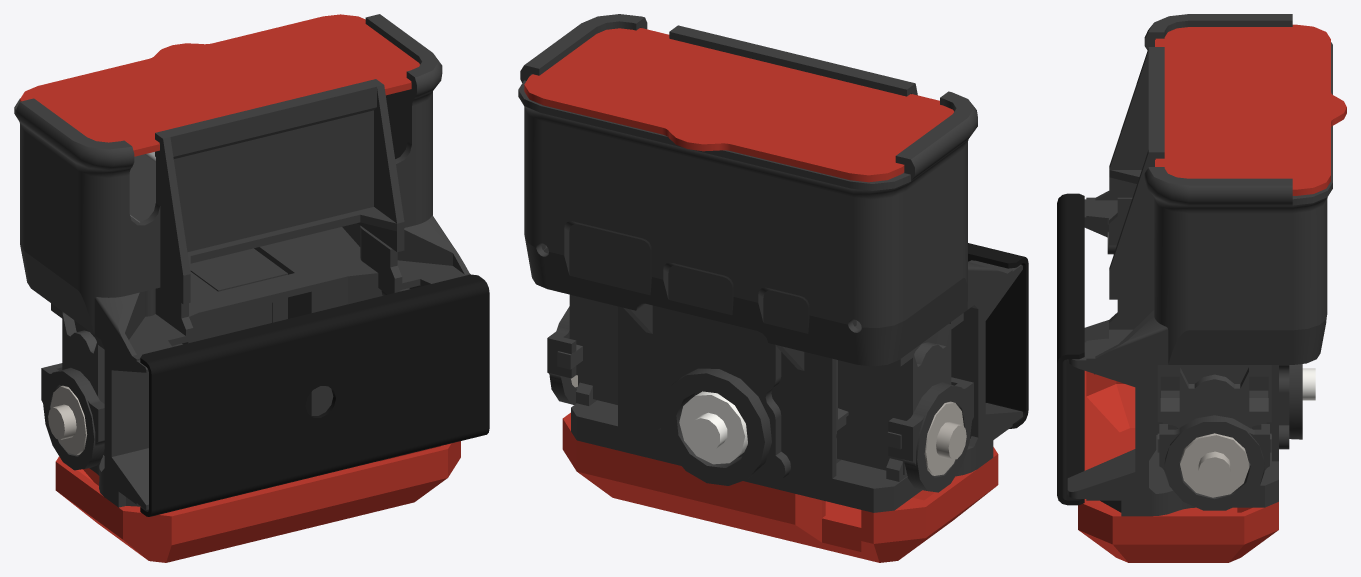
Rendered from torso_1_mesh.obj.
The picture shows the model from 3 angles, left to right: view 1: azimuth 30°, elevation 25°; view 2: azimuth 150°, elevation 25°; view 3: azimuth 270°, elevation 25°; orthographic projection. The views are drawn at different scales.
Parts seen in each view (by area): view 1: Body2, Body14, Body10, Body11, Body12, Body8, Body4, Body5, Body32; view 2: Body2, Body10, Body11, Body4, Body14, Body24, Body8, Body13, Body5, Body7; view 3: Body2, Body10, Body11, Body14, Body24, Body7, Body23, Body26, Body13.
Boxes of the visible parts, <box> form: Body2: <box>14,14,470,509</box>; Body14: <box>140,274,489,516</box>; Body10: <box>20,14,419,156</box>; Body11: <box>55,441,460,562</box>; Body12: <box>190,248,287,331</box>; Body8: <box>41,363,104,470</box>; Body4: <box>51,303,104,455</box>; Body5: <box>48,385,87,455</box>; Body32: <box>129,152,155,222</box>; Body2: <box>518,14,1022,512</box>; Body10: <box>524,28,953,182</box>; Body11: <box>562,412,998,562</box>; Body4: <box>836,313,963,481</box>; Body14: <box>968,243,1028,428</box>; Body24: <box>557,294,617,405</box>; Body8: <box>888,377,973,492</box>; Body13: <box>679,391,747,464</box>; Body5: <box>924,401,966,475</box>; Body7: <box>547,306,577,404</box>; Body2: <box>1067,14,1332,516</box>; Body10: <box>1155,24,1346,195</box>; Body11: <box>1078,371,1278,562</box>; Body14: <box>1057,193,1084,505</box>; Body24: <box>1157,365,1271,471</box>; Body7: <box>1159,415,1269,510</box>; Body23: <box>1180,433,1249,497</box>; Body26: <box>1160,376,1268,428</box>; Body13: <box>1302,368,1315,400</box>.
Size of the model in its own units: 0.1195 by 0.1271 by 0.0837.
